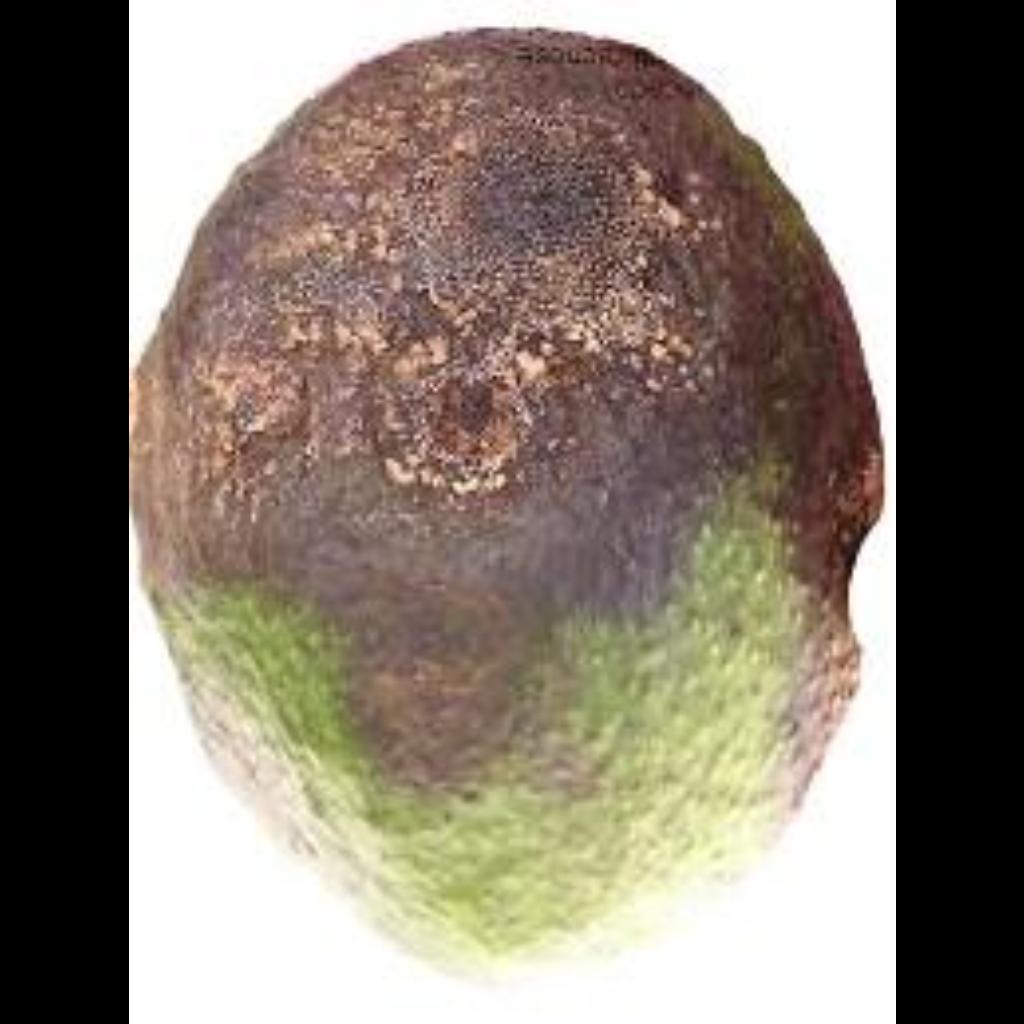antracnosis_fruto: (142, 39, 885, 956)
